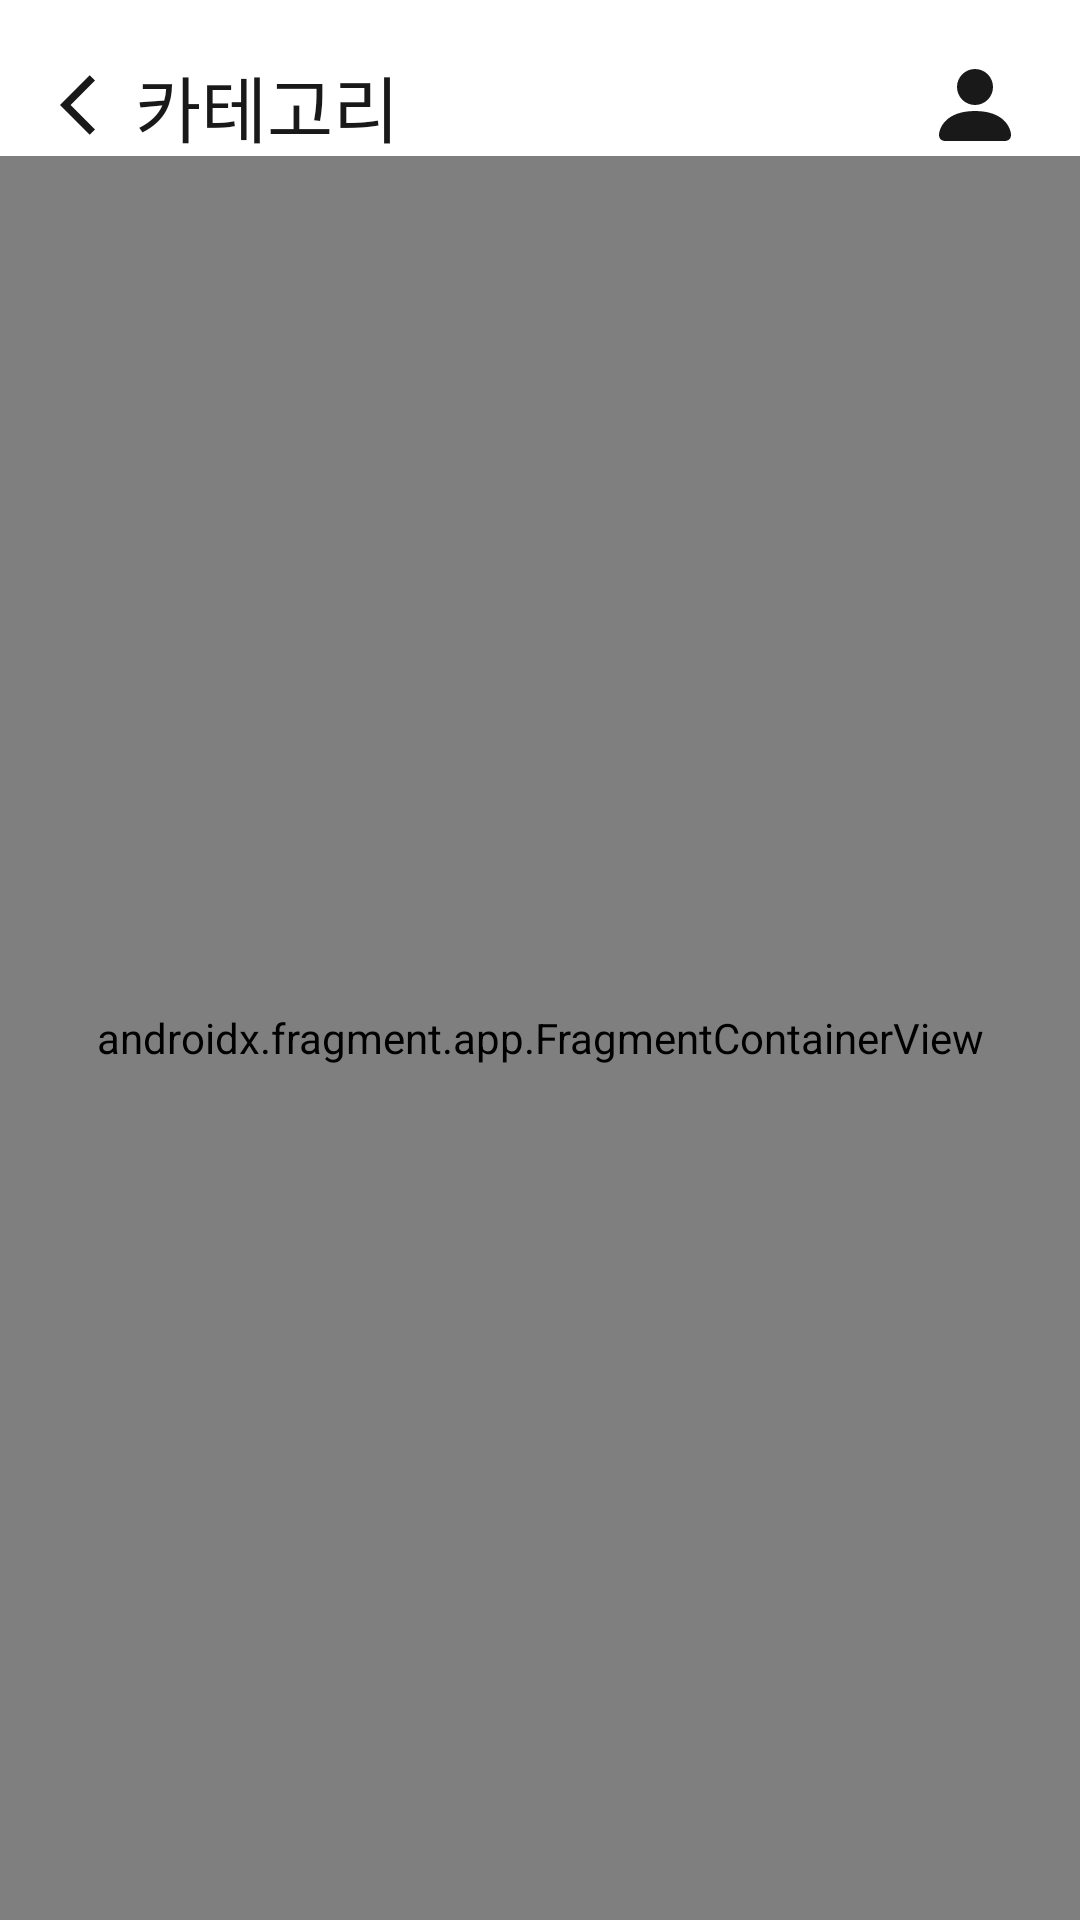

Where to tap for icons on this 1080 x 1920 app screen, as [x,y]:
arrow back: [77,105]
myprofile: [975,105]
